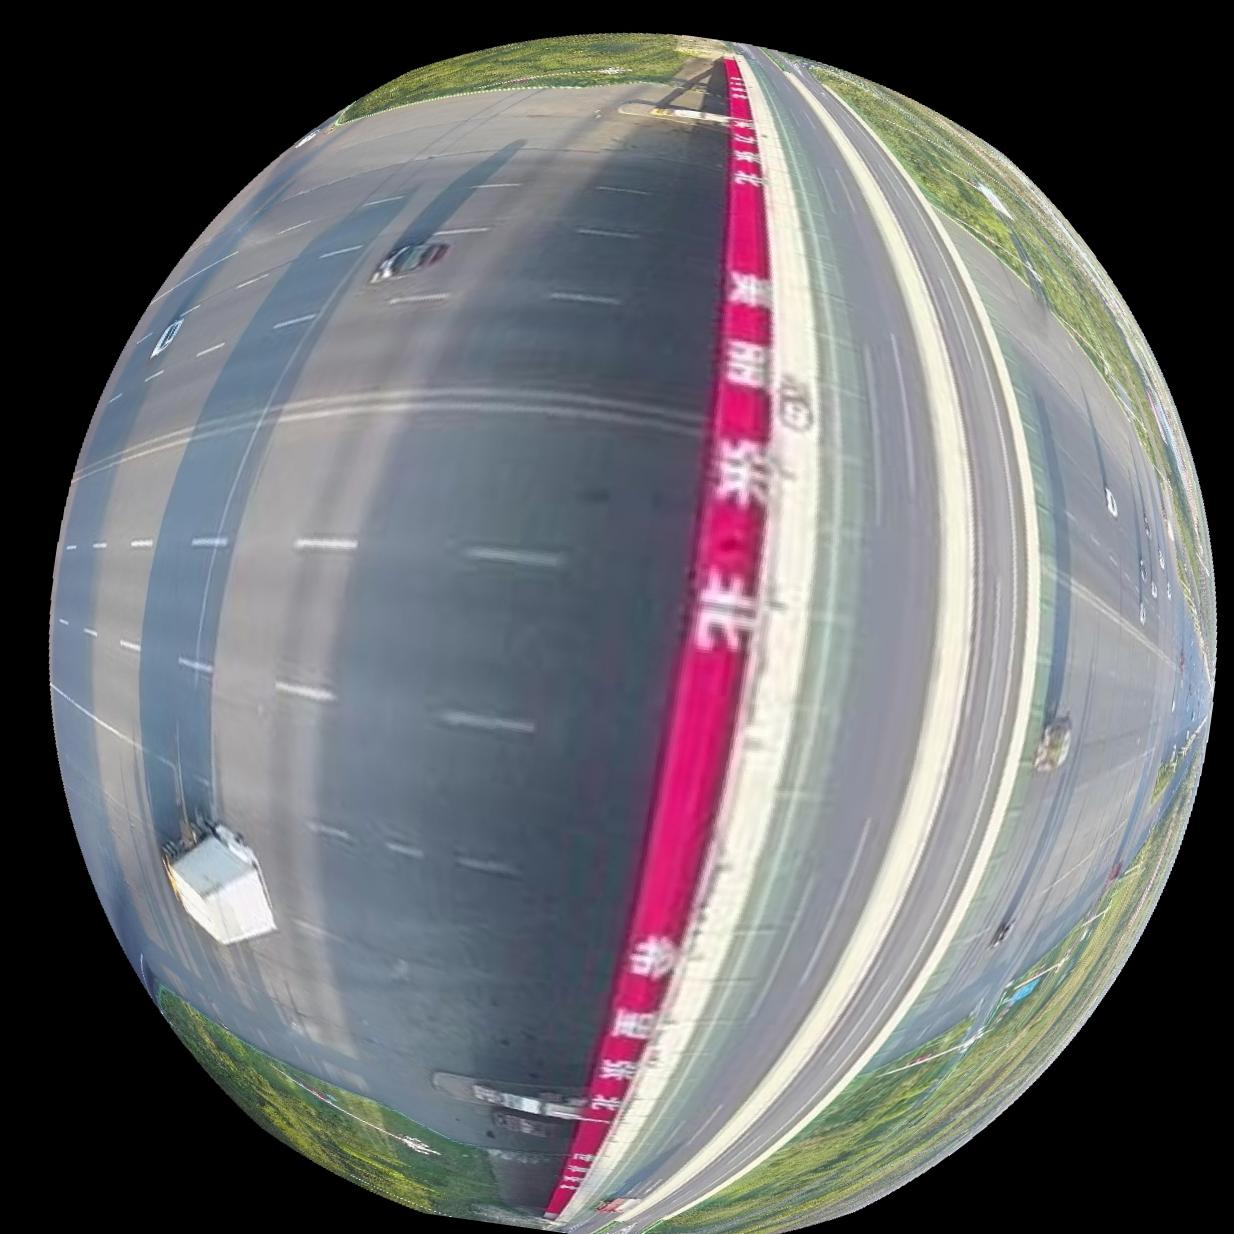cars: (160, 819, 272, 945), (367, 237, 449, 283), (1033, 716, 1072, 773), (146, 314, 181, 357), (989, 916, 1017, 950), (1104, 485, 1119, 518)
